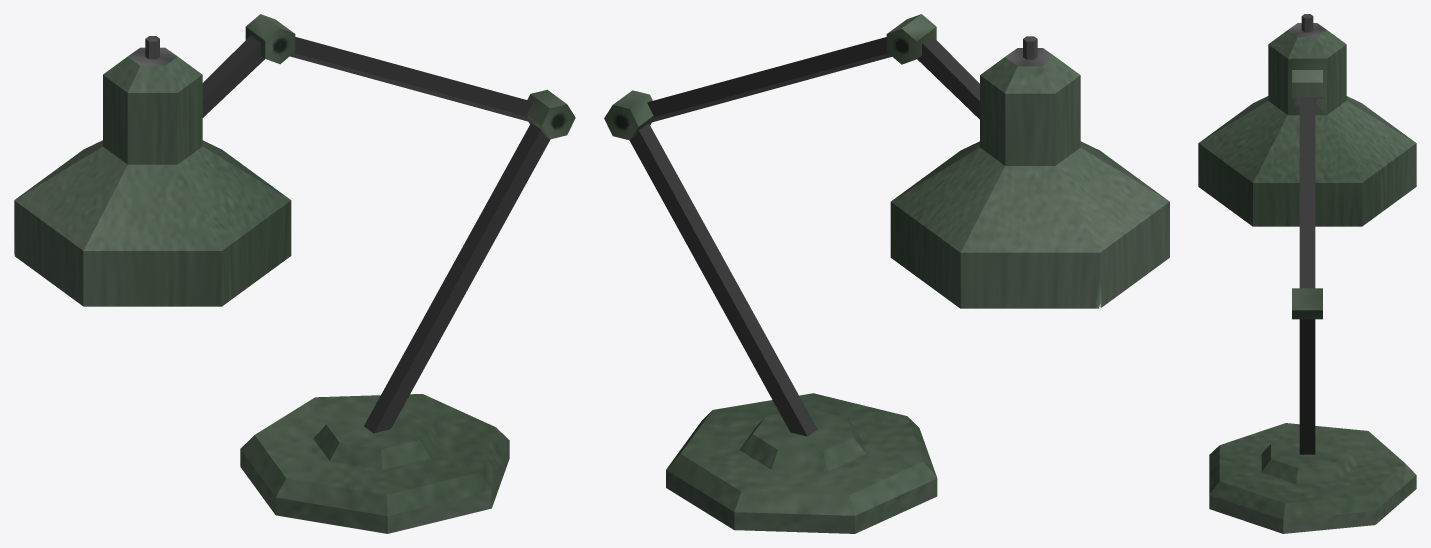
Rendered from lampara_itsmonss.fbx.
3 renders of one model, left to right at view 1: azimuth 30°, elevation 25°; view 2: azimuth 150°, elevation 25°; view 3: azimuth 270°, elevation 25°, orthographic. The views are drawn at different scales.
Parts seen in each view (by area): view 1: Light; view 2: Light; view 3: Light.
Boxes of the visible parts, x1,y1,x2,y2 form: Light: (14, 14, 575, 533); Light: (604, 14, 1169, 533); Light: (1198, 14, 1416, 533).
Bounding box in the file's own units: 302 × 274 × 140.
Materials: 3 (1 with a texture image).
